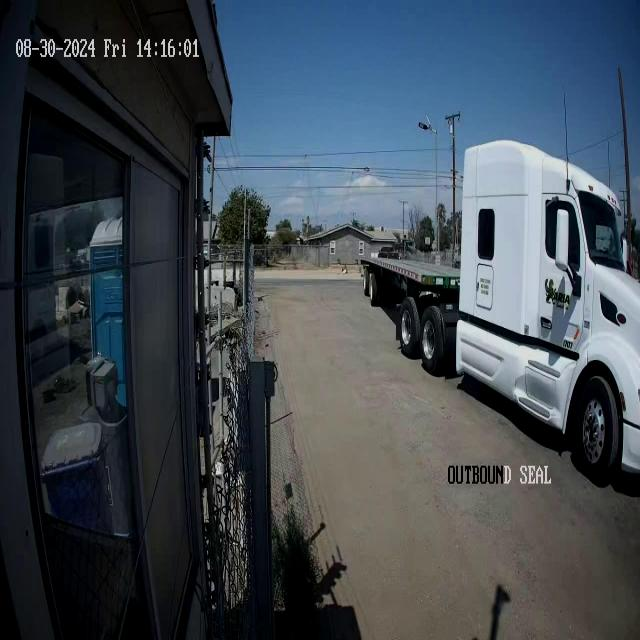BOBTAIL: (364, 138, 639, 473)
